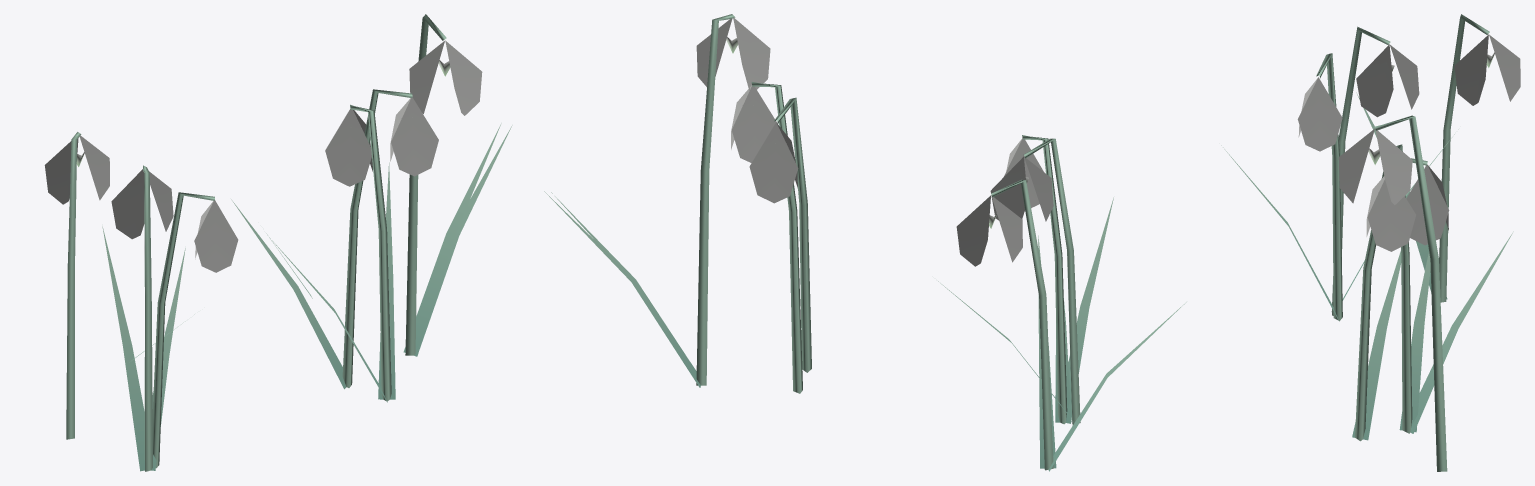
Rendered from snowdrop_patch_a_mid.glb.
3 renders of one model, left to right at view 1: azimuth 30°, elevation 25°; view 2: azimuth 150°, elevation 25°; view 3: azimuth 270°, elevation 25°, orthographic.
Visible parts, largest first — view 1: soft; view 2: soft; view 3: soft.
Part boxes in pixels (box(x1,y1,x2,y2)): soft: box(44, 14, 512, 471); soft: box(544, 14, 1186, 471); soft: box(1221, 14, 1520, 471).
Size of the model in its own units: 0.6254 by 0.3675 by 0.2837.
